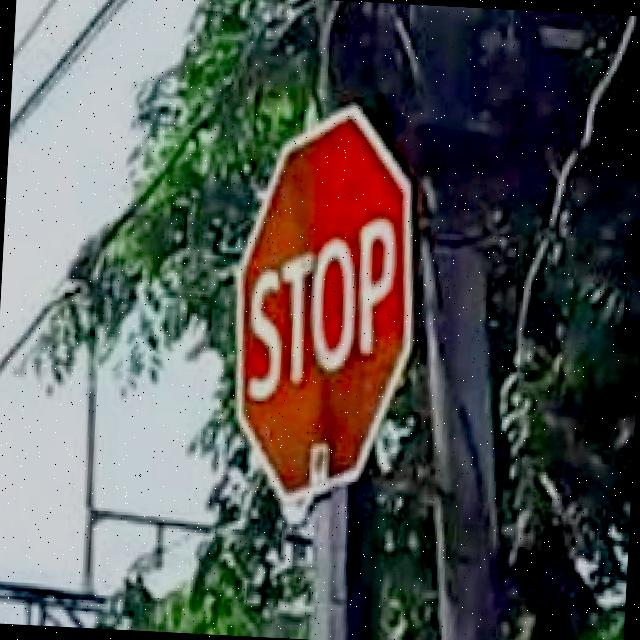Stop: (227, 128, 414, 498)
